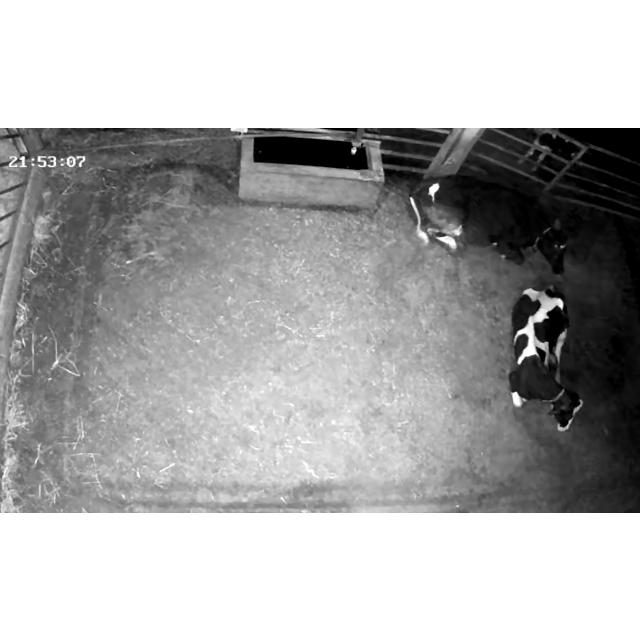lay: (396, 168, 574, 282), (494, 278, 604, 438)
